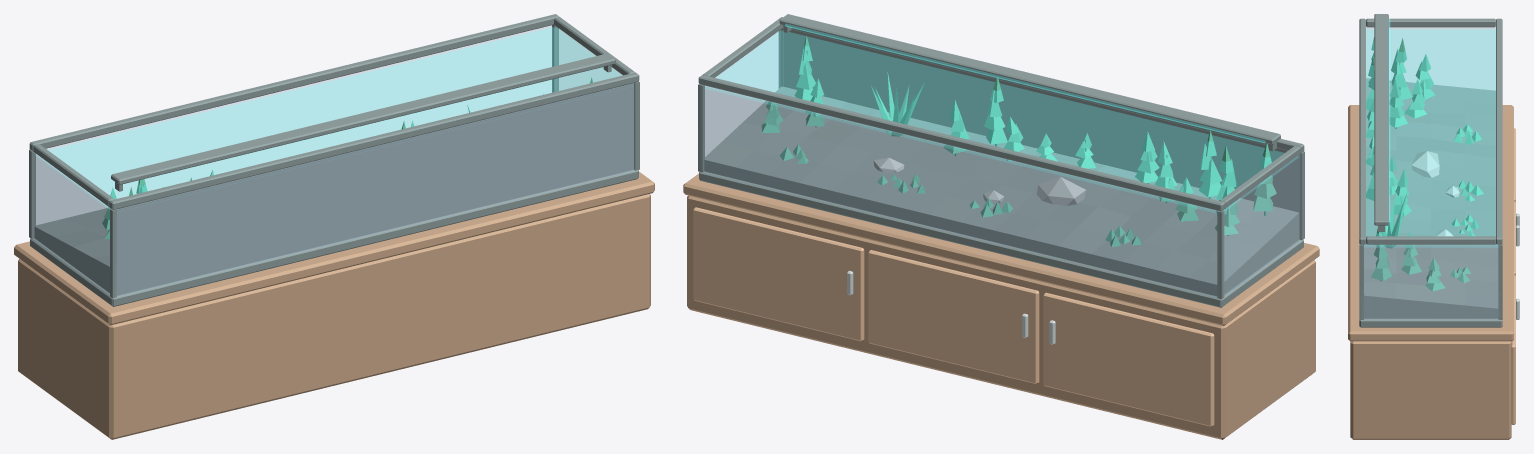
File: aquarium_3.glb
3 views of the same model, side by side, from view 1: azimuth 30°, elevation 25°; view 2: azimuth 150°, elevation 25°; view 3: azimuth 270°, elevation 25° (orthographic). The views are drawn at different scales.
Visible parts, largest first — view 1: aquarium_3; view 2: aquarium_3; view 3: aquarium_3.
Boxes of the visible parts, box(x1,y1,x2,y2) form: aquarium_3: box(14, 14, 654, 439); aquarium_3: box(683, 14, 1319, 439); aquarium_3: box(1348, 14, 1519, 439).
Bounding box in the file's own units: 1.34 × 0.5755 × 0.4255.
